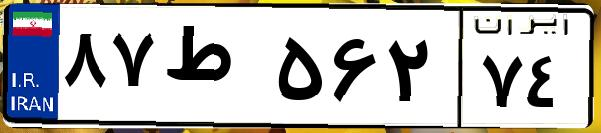2: (385, 28, 445, 110)
4: (525, 38, 570, 115)
5: (270, 28, 330, 110)
6: (330, 28, 385, 110)
7: (475, 38, 525, 113), (110, 28, 158, 98)
8: (57, 26, 110, 100)
ط: (158, 20, 270, 120)
